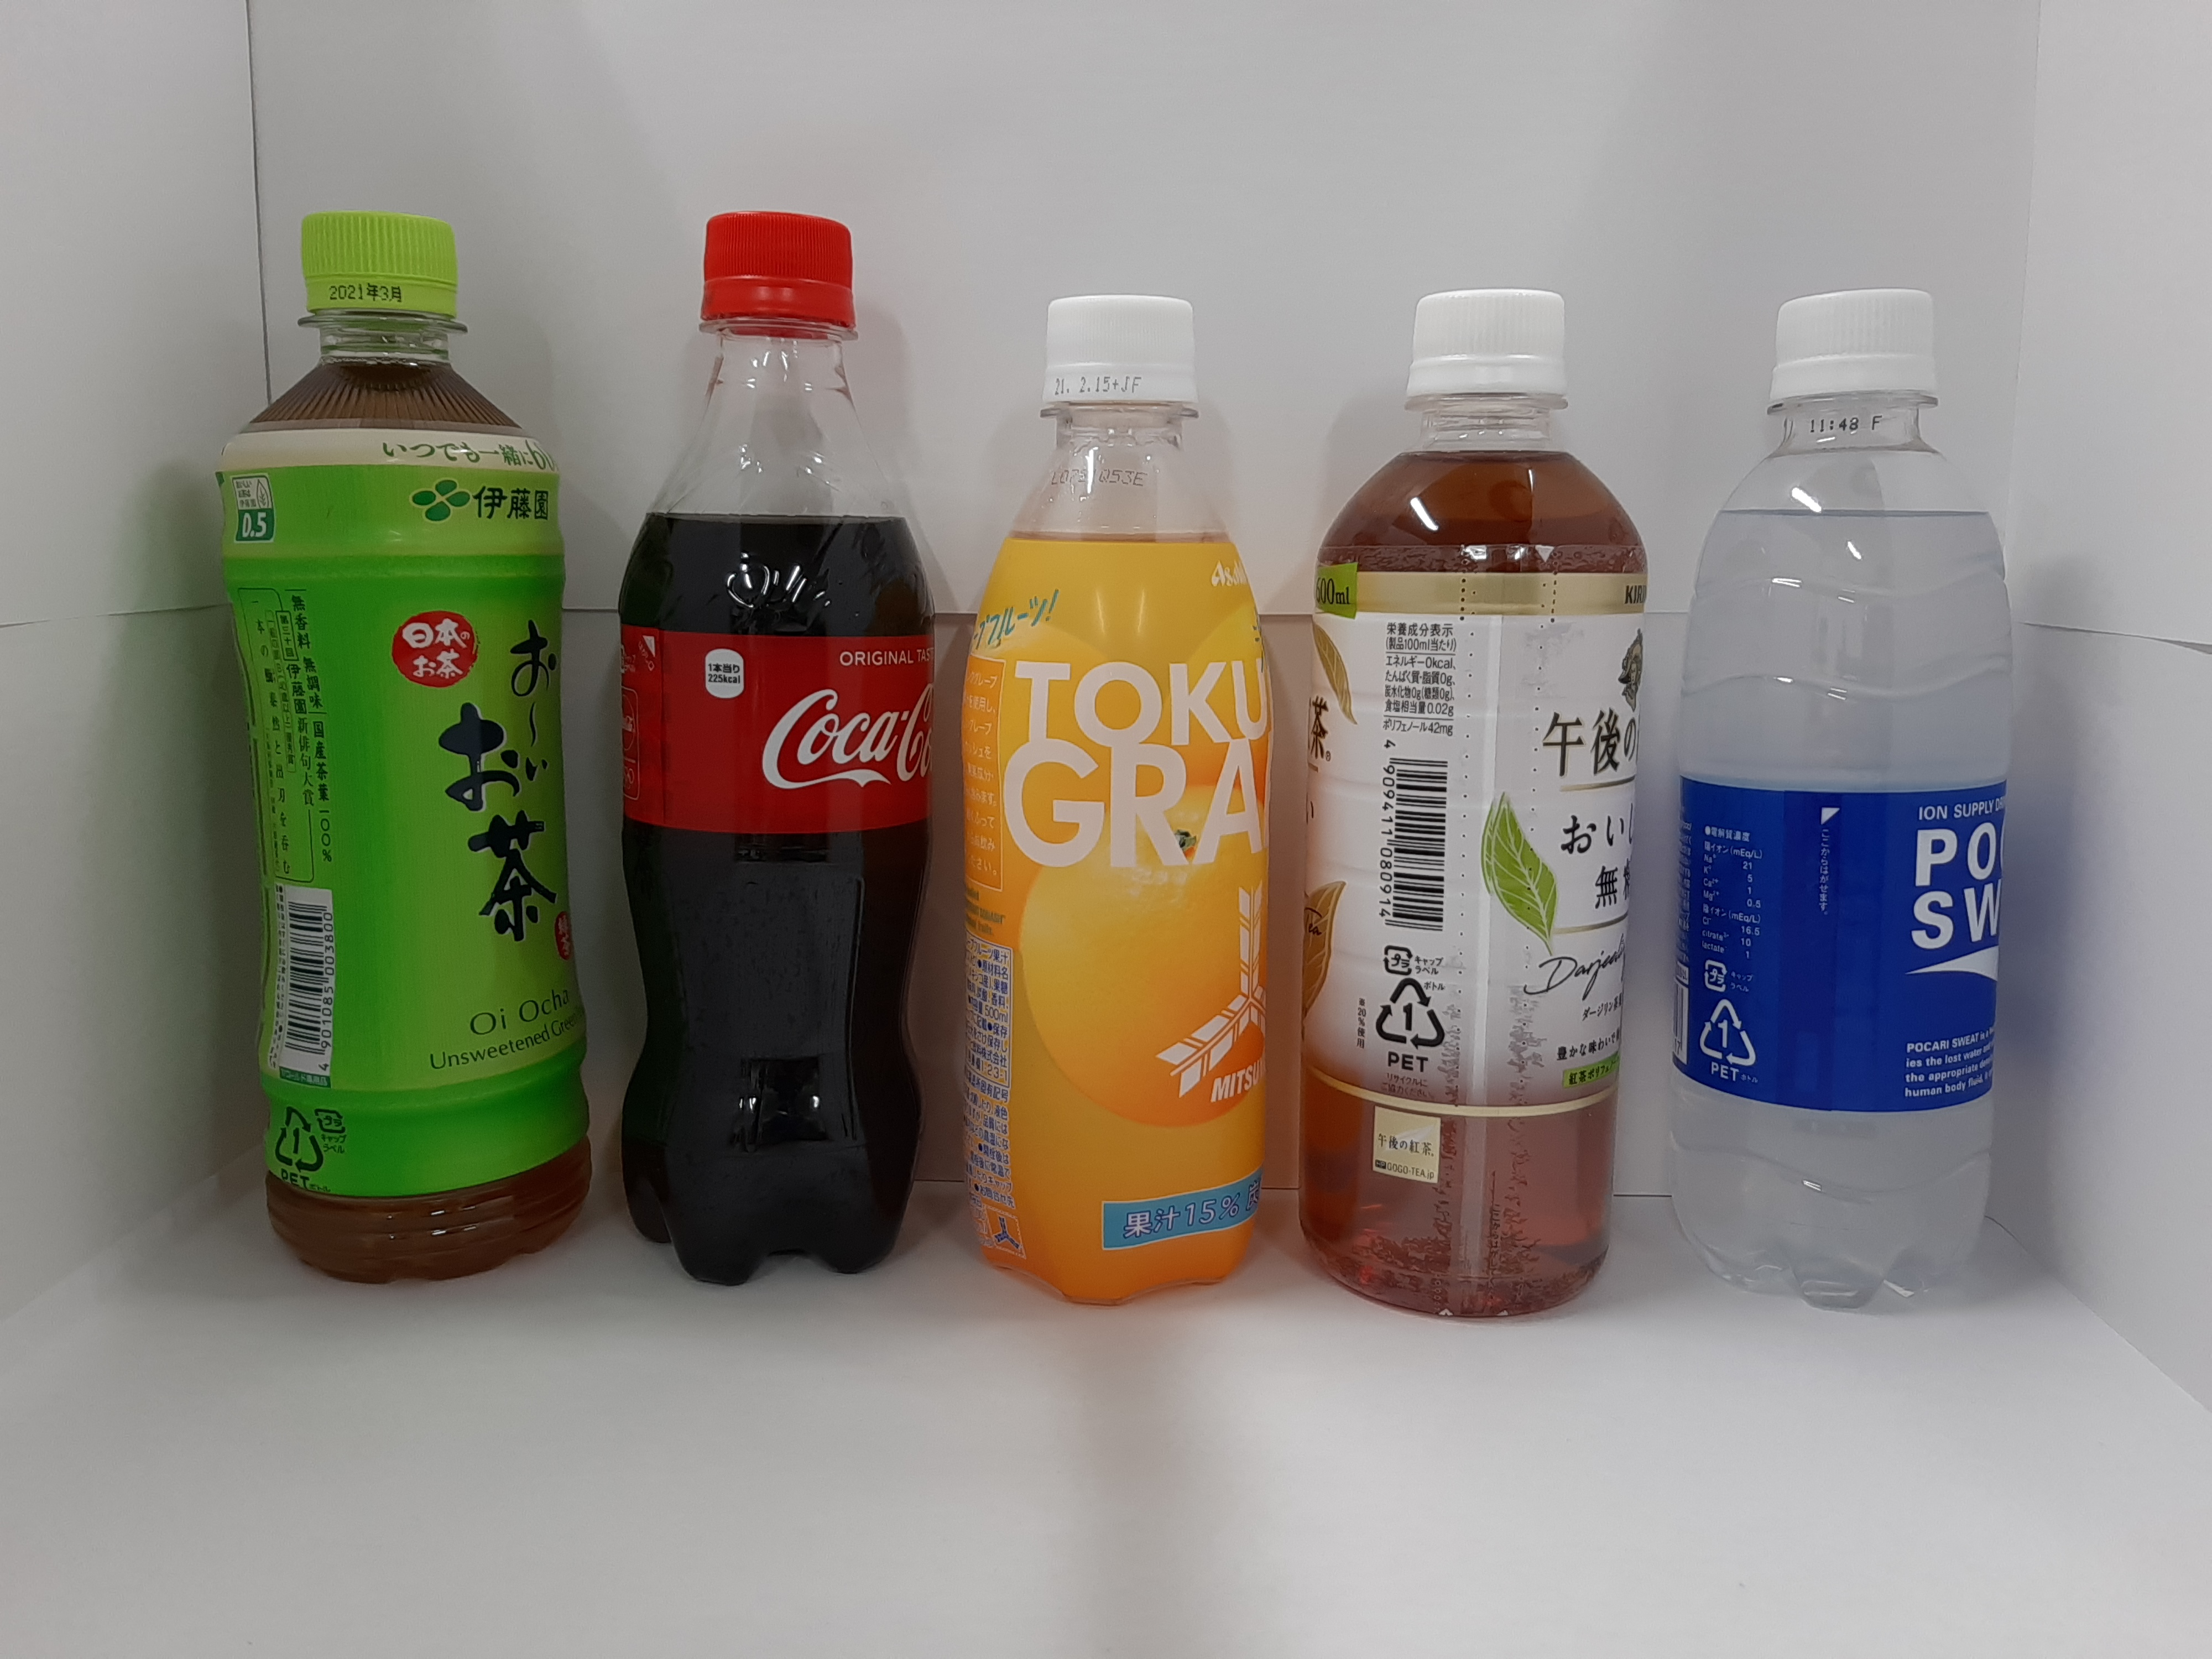おーいお茶: (174, 181, 608, 1309)
グレープフルーツスカッシュ: (935, 263, 1299, 1331)
コーラ: (566, 192, 956, 1314)
ポカリスエット: (1653, 277, 2057, 1333)
午後の紅茶: (1280, 270, 1676, 1342)
